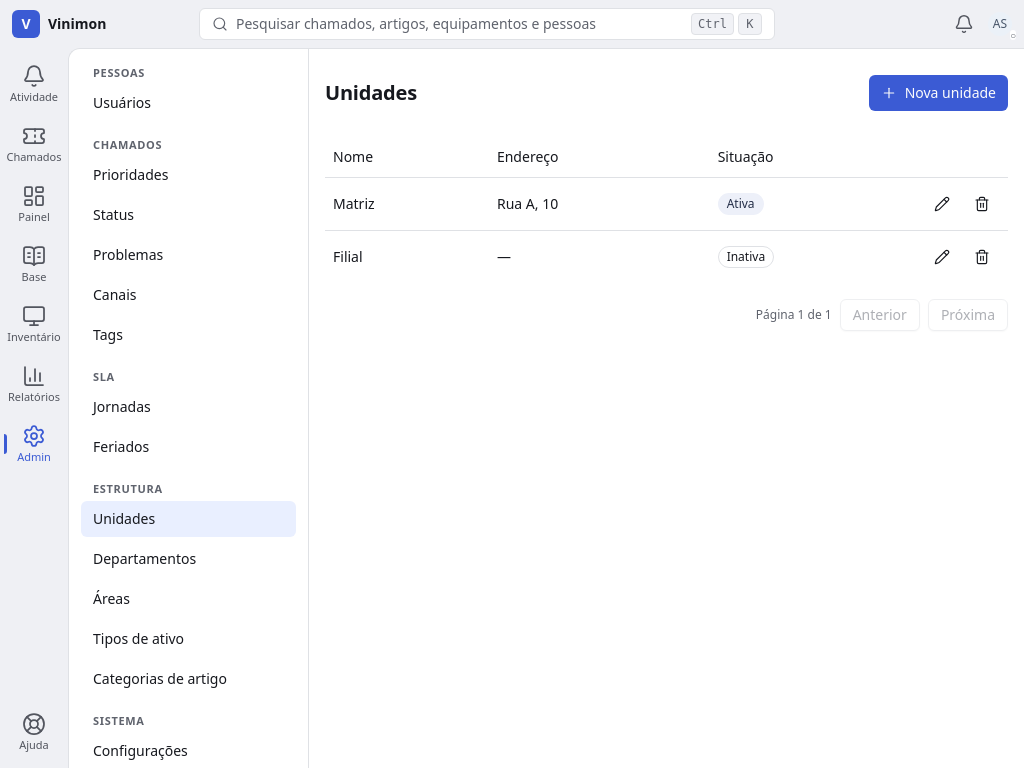
Test case: /admin/unidades › excluir confirma e faz DELETE /unidades/1
Click the button named "Excluir Matriz": click(982, 204) 964,186 -> 1000,222
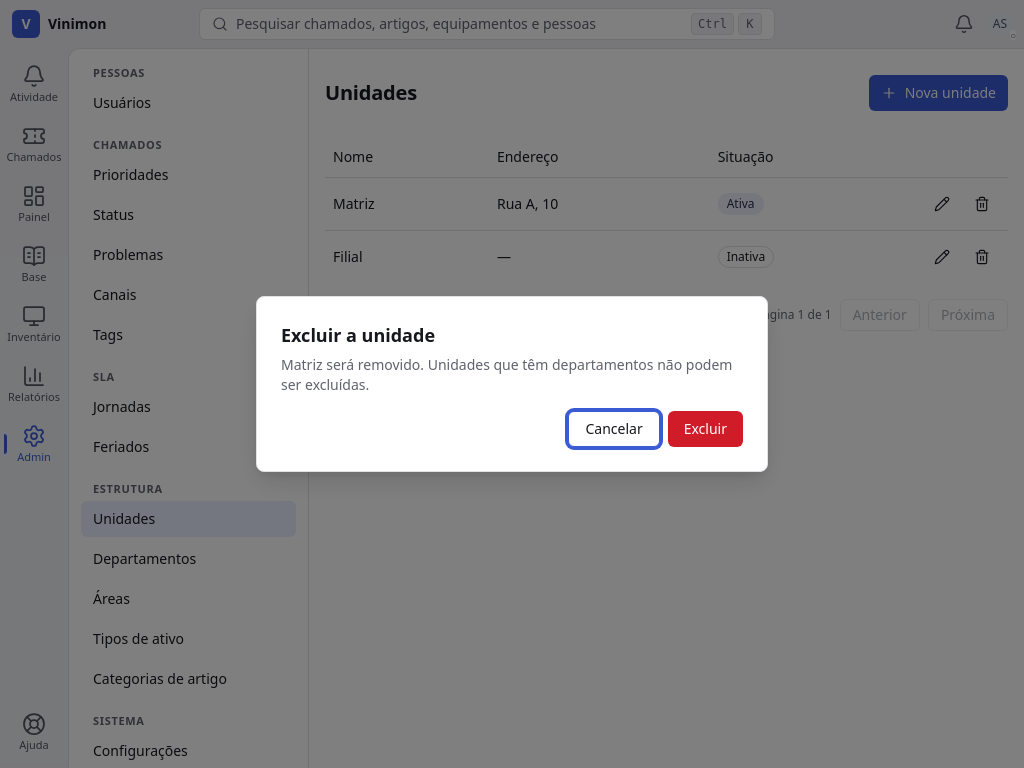
Click the button "Excluir": click(705, 429) 668,411 -> 743,447
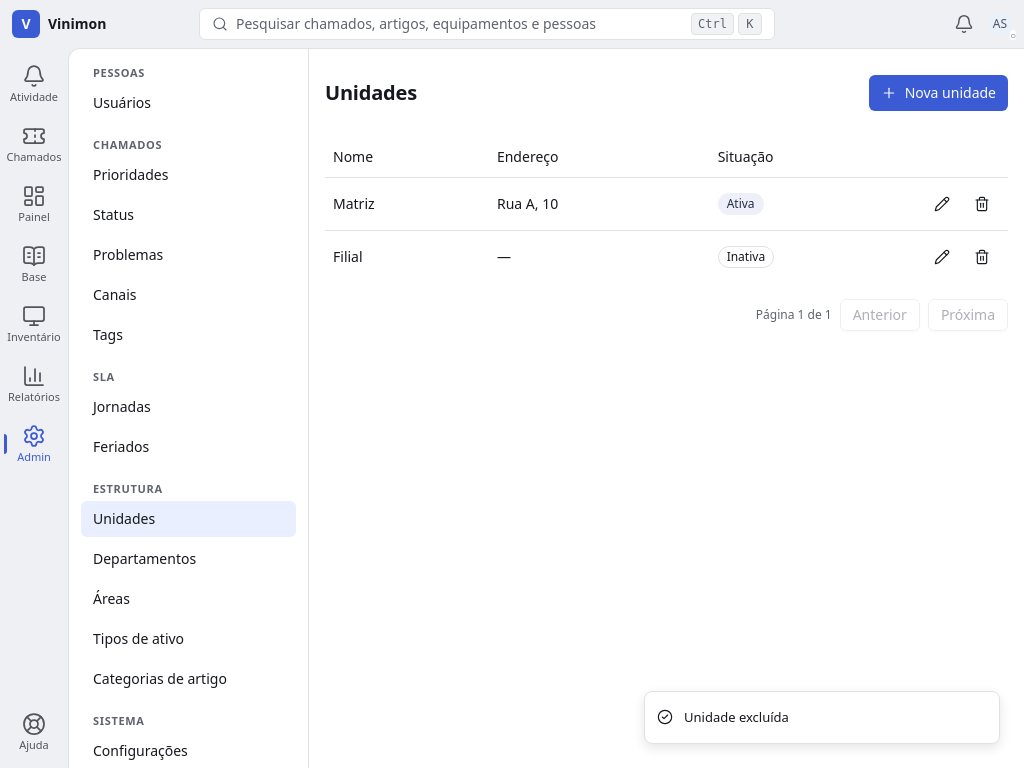
Now the text "Unidade excluída" is shown, box 684,708 -> 789,727
